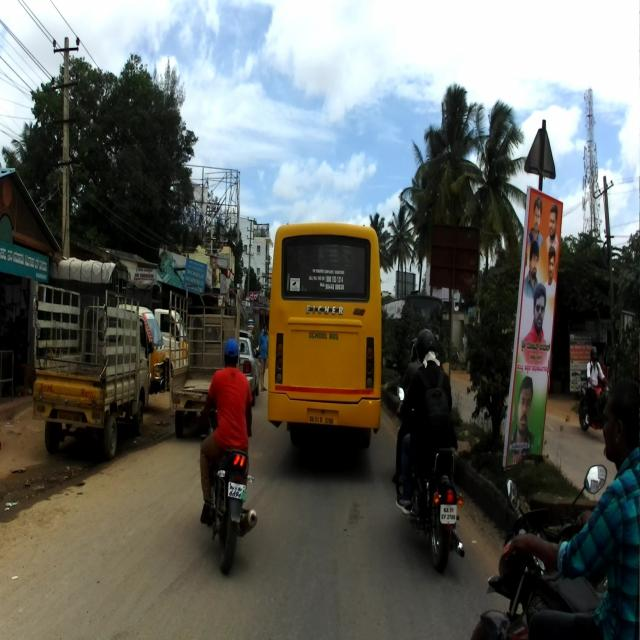bus: (267, 221, 383, 458)
motorcycle_Honda: (470, 469, 640, 638)
motorcycle_RoyalEnfield: (396, 385, 466, 575)
motorcycle_bajaj: (198, 405, 258, 577)
truck: (32, 280, 154, 464), (50, 257, 166, 408), (166, 278, 243, 436)
